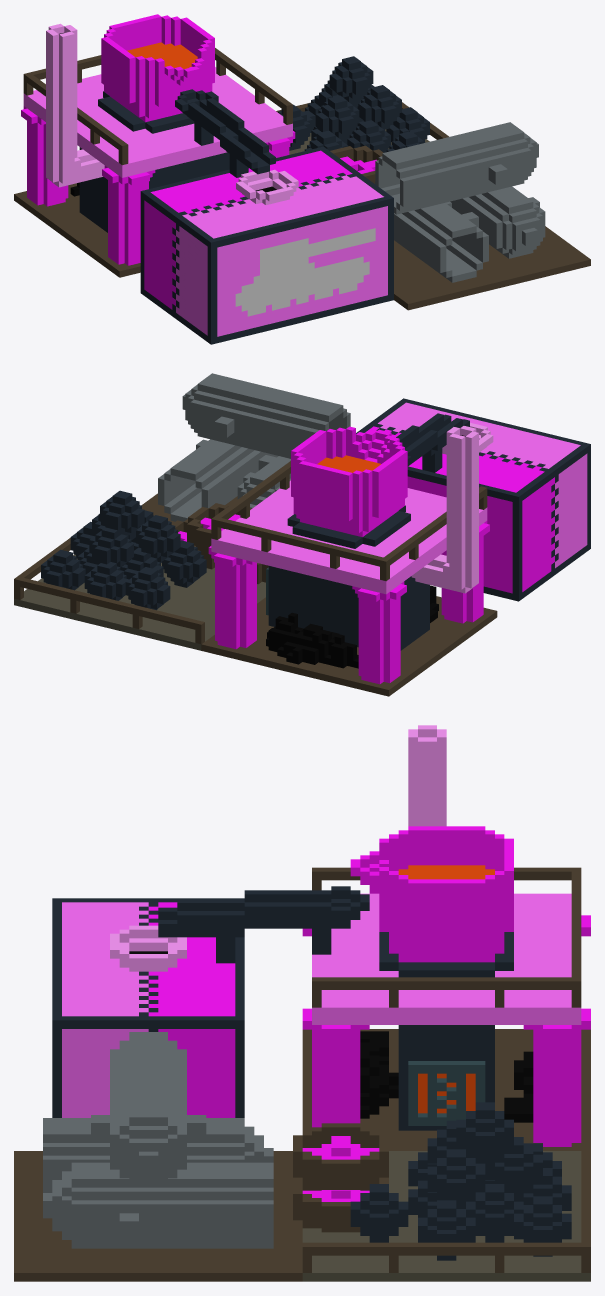
File: factory.obj
3 renders of one model, top to bottom at view 1: azimuth 30°, elevation 25°; view 2: azimuth 150°, elevation 25°; view 3: azimuth 270°, elevation 25°, orthographic. The views are drawn at different scales.
Size of the model in its own units: 6.4 by 3.4 by 6.
